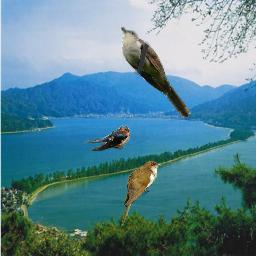Cuckoo: (121, 27, 191, 118), (121, 160, 162, 229)
Swallow: (83, 125, 130, 151)
